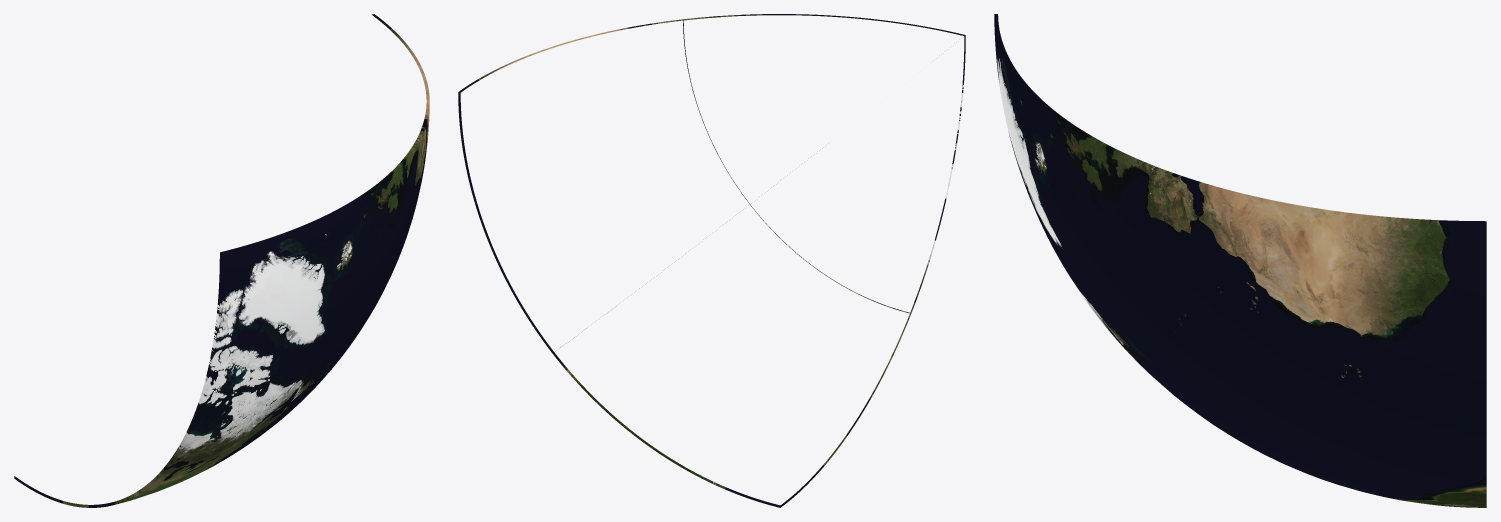
3 views of the same model, side by side, from view 1: azimuth 30°, elevation 25°; view 2: azimuth 150°, elevation 25°; view 3: azimuth 270°, elevation 25° (orthographic). The views are drawn at different scales.
Parts seen in each view (by area): view 1: DefaultName.012, DefaultName.009, DefaultName.003, DefaultName.006; view 2: DefaultName.006, DefaultName.003, DefaultName.012, DefaultName.009; view 3: DefaultName.006, DefaultName.009, DefaultName.003, DefaultName.012.
Boxes of the visible parts, x1,y1,x2,y2 form: DefaultName.012: (159,252,340,475); DefaultName.009: (220,146,415,353); DefaultName.003: (14,354,342,507); DefaultName.006: (341,14,429,355); DefaultName.006: (458,19,683,353); DefaultName.003: (552,313,910,507); DefaultName.012: (750,35,965,313); DefaultName.009: (683,14,965,203); DefaultName.006: (1139,161,1486,478); DefaultName.009: (994,14,1141,342); DefaultName.003: (1139,343,1486,507); DefaultName.012: (994,26,1138,363).
Size of the model in its own units: 63781 by 63781 by 63568.
4 materials, 4 textured.
